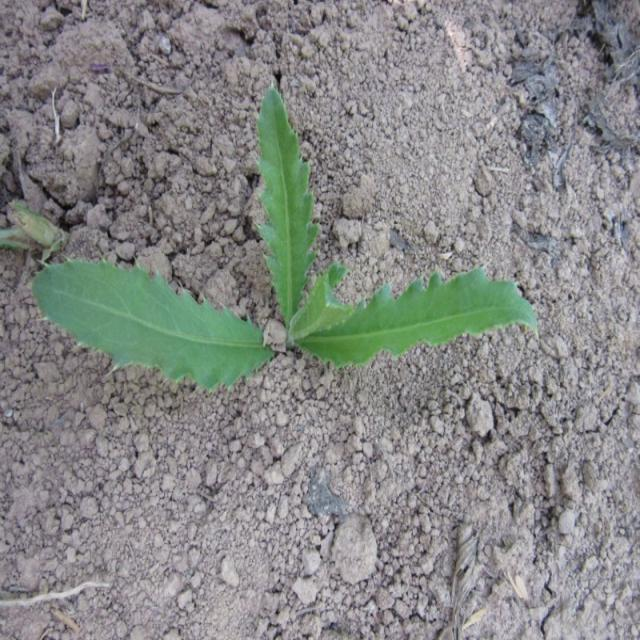field_thistle: (30, 76, 542, 439)
